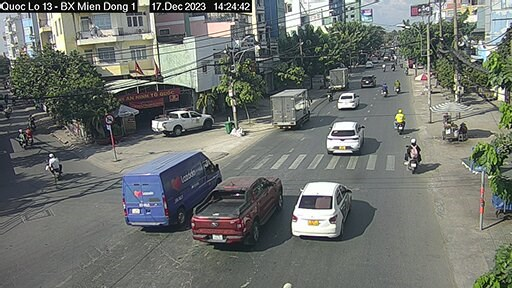car: (123, 148, 217, 232), (213, 173, 280, 242), (288, 179, 354, 241), (151, 112, 216, 134), (326, 120, 364, 156), (336, 91, 360, 111), (358, 72, 379, 89)
motorbike: (405, 141, 425, 172), (43, 151, 63, 182), (395, 110, 411, 137)
truck: (270, 89, 310, 131), (324, 66, 348, 92)
